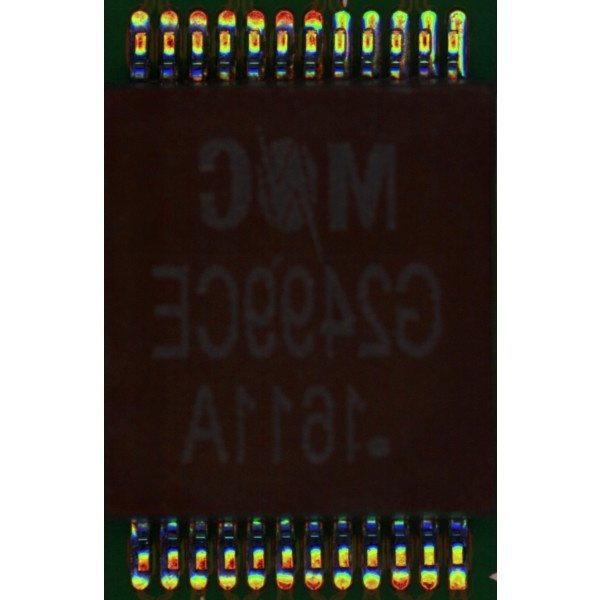Bad_podu: (422, 24, 432, 42), (393, 22, 402, 40), (365, 22, 374, 39), (451, 23, 460, 40), (337, 24, 345, 37)
Bad_qiaojiao: (459, 30, 466, 76), (431, 29, 438, 74), (345, 30, 350, 70)
